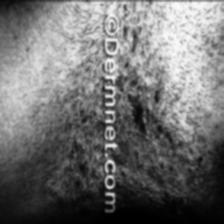Toxin: (66, 127, 96, 222)
